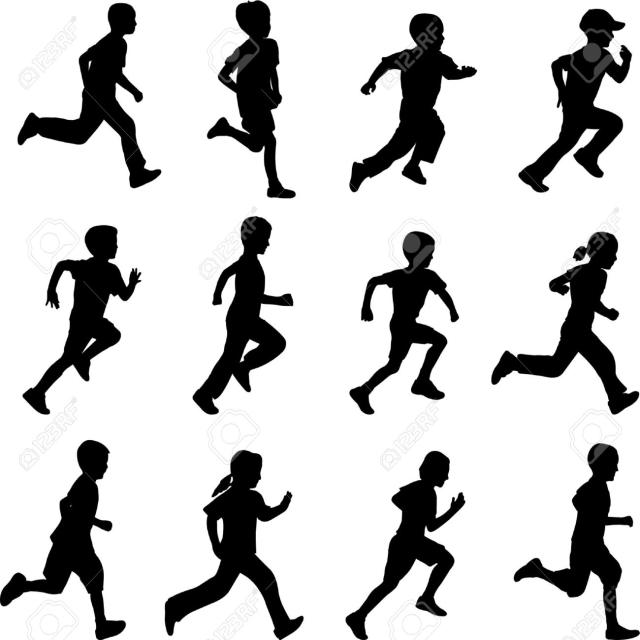Person: (489, 232, 640, 414), (17, 2, 161, 188), (165, 451, 304, 640), (512, 441, 640, 640), (0, 440, 126, 640), (21, 224, 141, 416), (345, 447, 464, 640), (349, 12, 476, 192), (519, 7, 632, 192), (192, 214, 294, 414), (348, 231, 459, 414), (207, 1, 296, 199)
